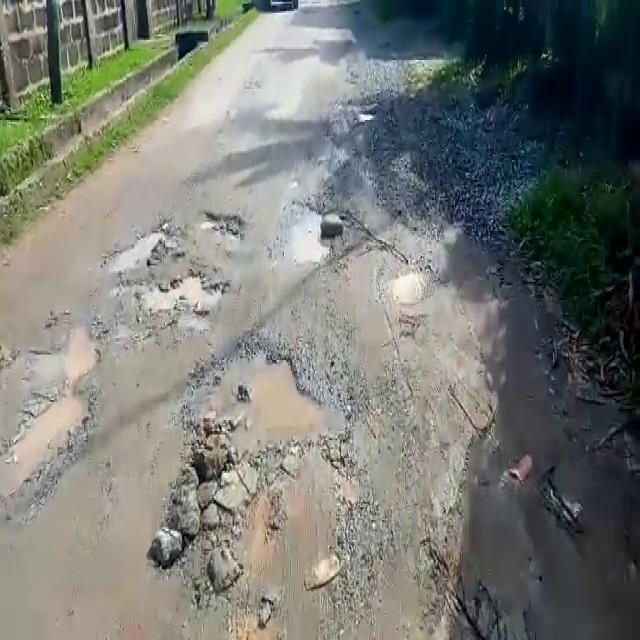Pothole: (176, 337, 364, 468), (3, 380, 95, 490), (146, 268, 228, 313), (274, 207, 331, 266), (101, 225, 170, 270), (63, 317, 103, 377), (386, 268, 431, 307)
